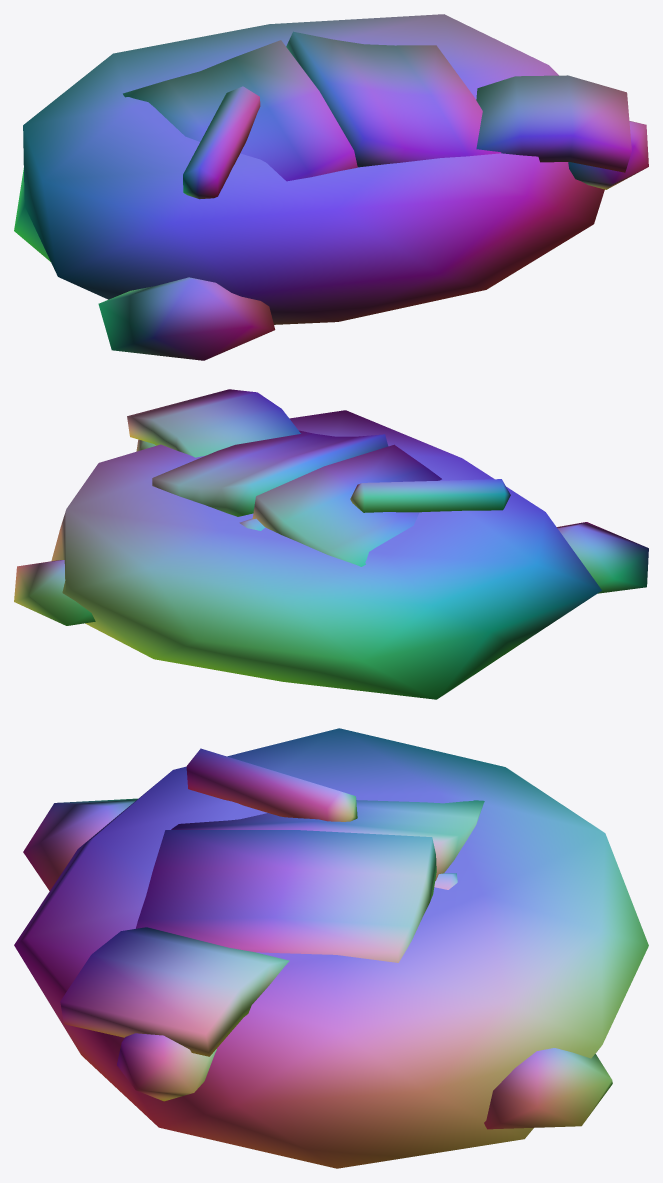
The model's file is SM_Prop_March_TornJournal.fbx.
The picture shows the model from 3 angles, top to bottom: view 1: azimuth 30°, elevation 25°; view 2: azimuth 150°, elevation 25°; view 3: azimuth 270°, elevation 25°; orthographic projection. The views are drawn at different scales.
Visible parts, largest first — view 1: SM_Prop_March_TornJournal; view 2: SM_Prop_March_TornJournal; view 3: SM_Prop_March_TornJournal.
Part boxes in pixels (box(x1,y1,x2,y2)): SM_Prop_March_TornJournal: box(14, 14, 648, 360); SM_Prop_March_TornJournal: box(14, 389, 648, 699); SM_Prop_March_TornJournal: box(14, 728, 648, 1168).
Bounding box in the file's own units: 0.5429 × 0.1856 × 0.4447.
